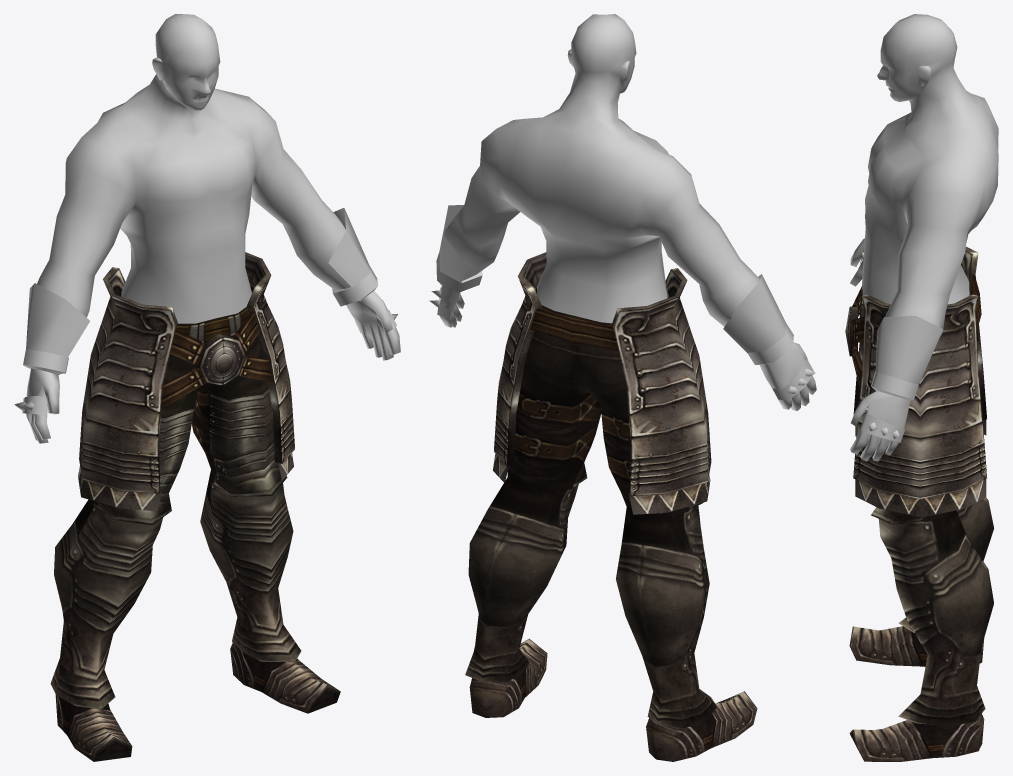
File: Tough man.fbx
The picture shows the model from 3 angles, left to right: view 1: azimuth 30°, elevation 25°; view 2: azimuth 150°, elevation 25°; view 3: azimuth 270°, elevation 25°; orthographic projection.
Visible parts, largest first — view 1: Object01; view 2: Object01; view 3: Object01.
Part boxes in pixels (left/top/right/bottom): Object01: left=14, top=14, right=400, bottom=761; Object01: left=429, top=14, right=816, bottom=761; Object01: left=845, top=14, right=998, bottom=761.
Bounding box in the file's own units: 1743 × 3073 × 623.
